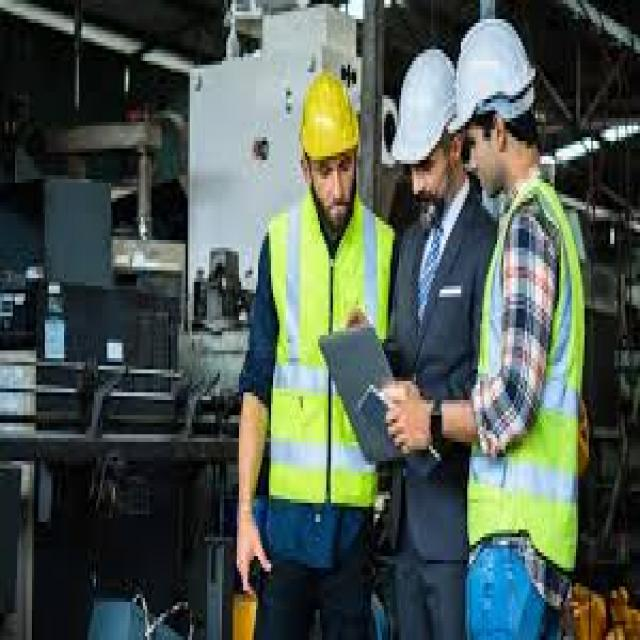Reflective-Jacket: (461, 172, 595, 572), (254, 198, 397, 541)
Safety-Helmet: (452, 15, 546, 141), (386, 42, 459, 175), (292, 61, 365, 175)
